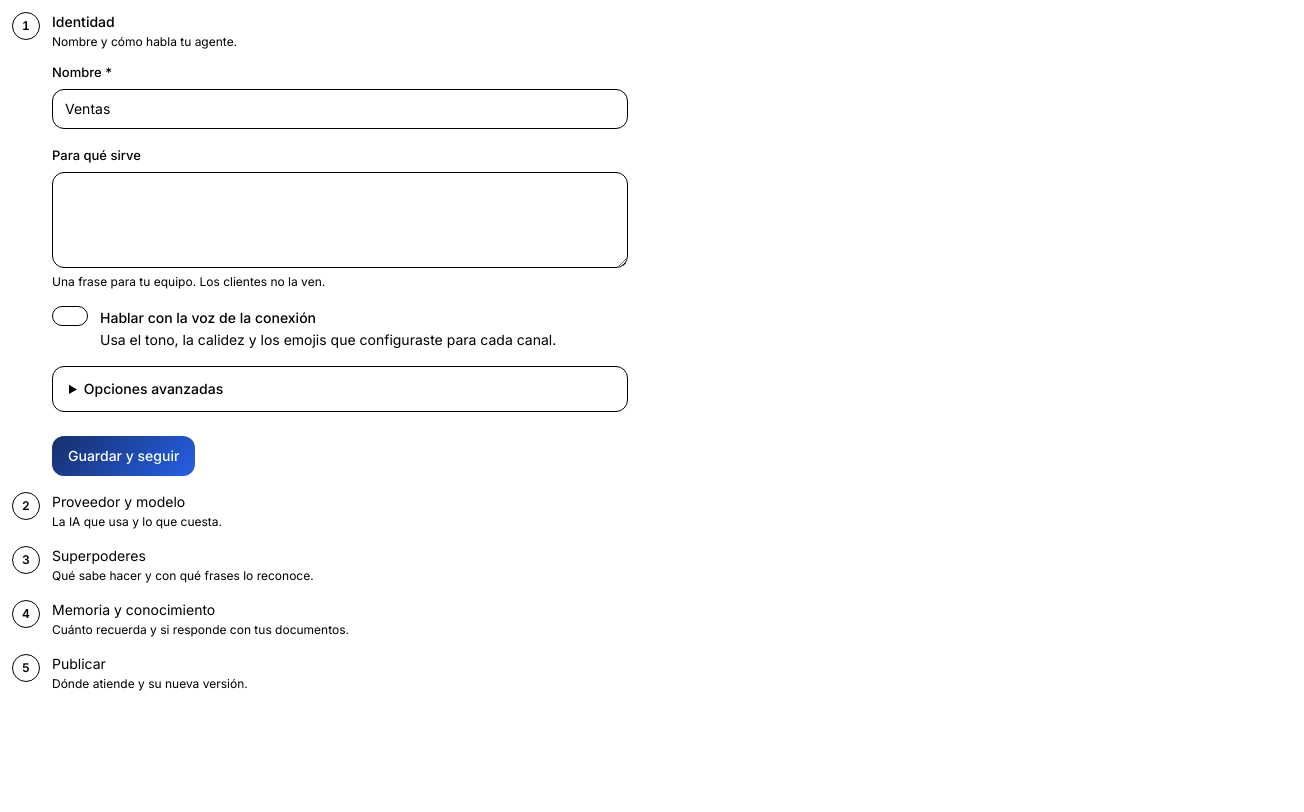
Test: 409 de tope del plan › el editor explica el tope de agentes al publicar y ofrece mejorar el plan
What coordinates should you click on to do the following:
click the button with aria-label "Paso 5"
I would click on:
 (79, 663)
Its box is top-left (12, 654), bottom-right (1292, 692).
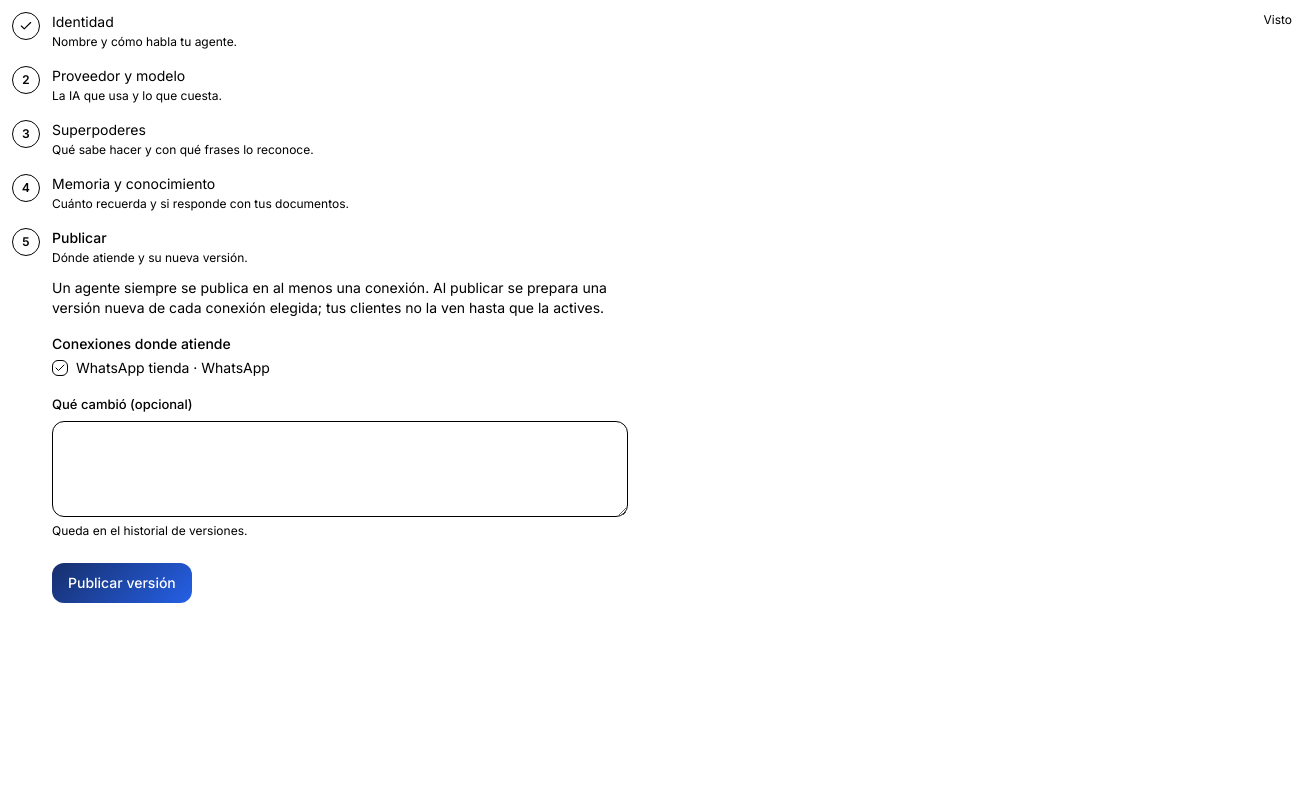
What coordinates should you click on to do the following:
click the button "Publicar versión"
I would click on:
 (122, 583)
Its box is top-left (52, 563), bottom-right (192, 603).
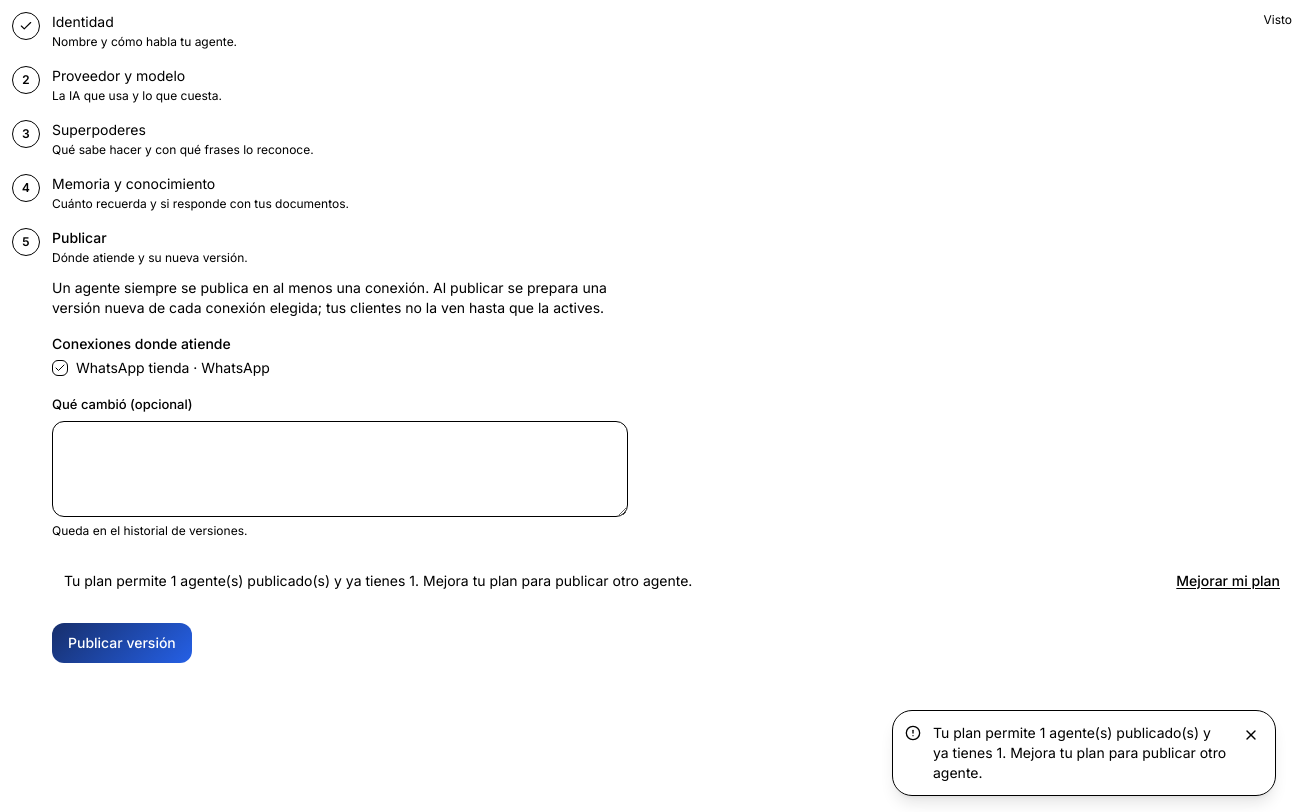
Result: the message named "Mejorar mi plan" shows "permite 1 agente" at top-left (64, 572), bottom-right (692, 589)
